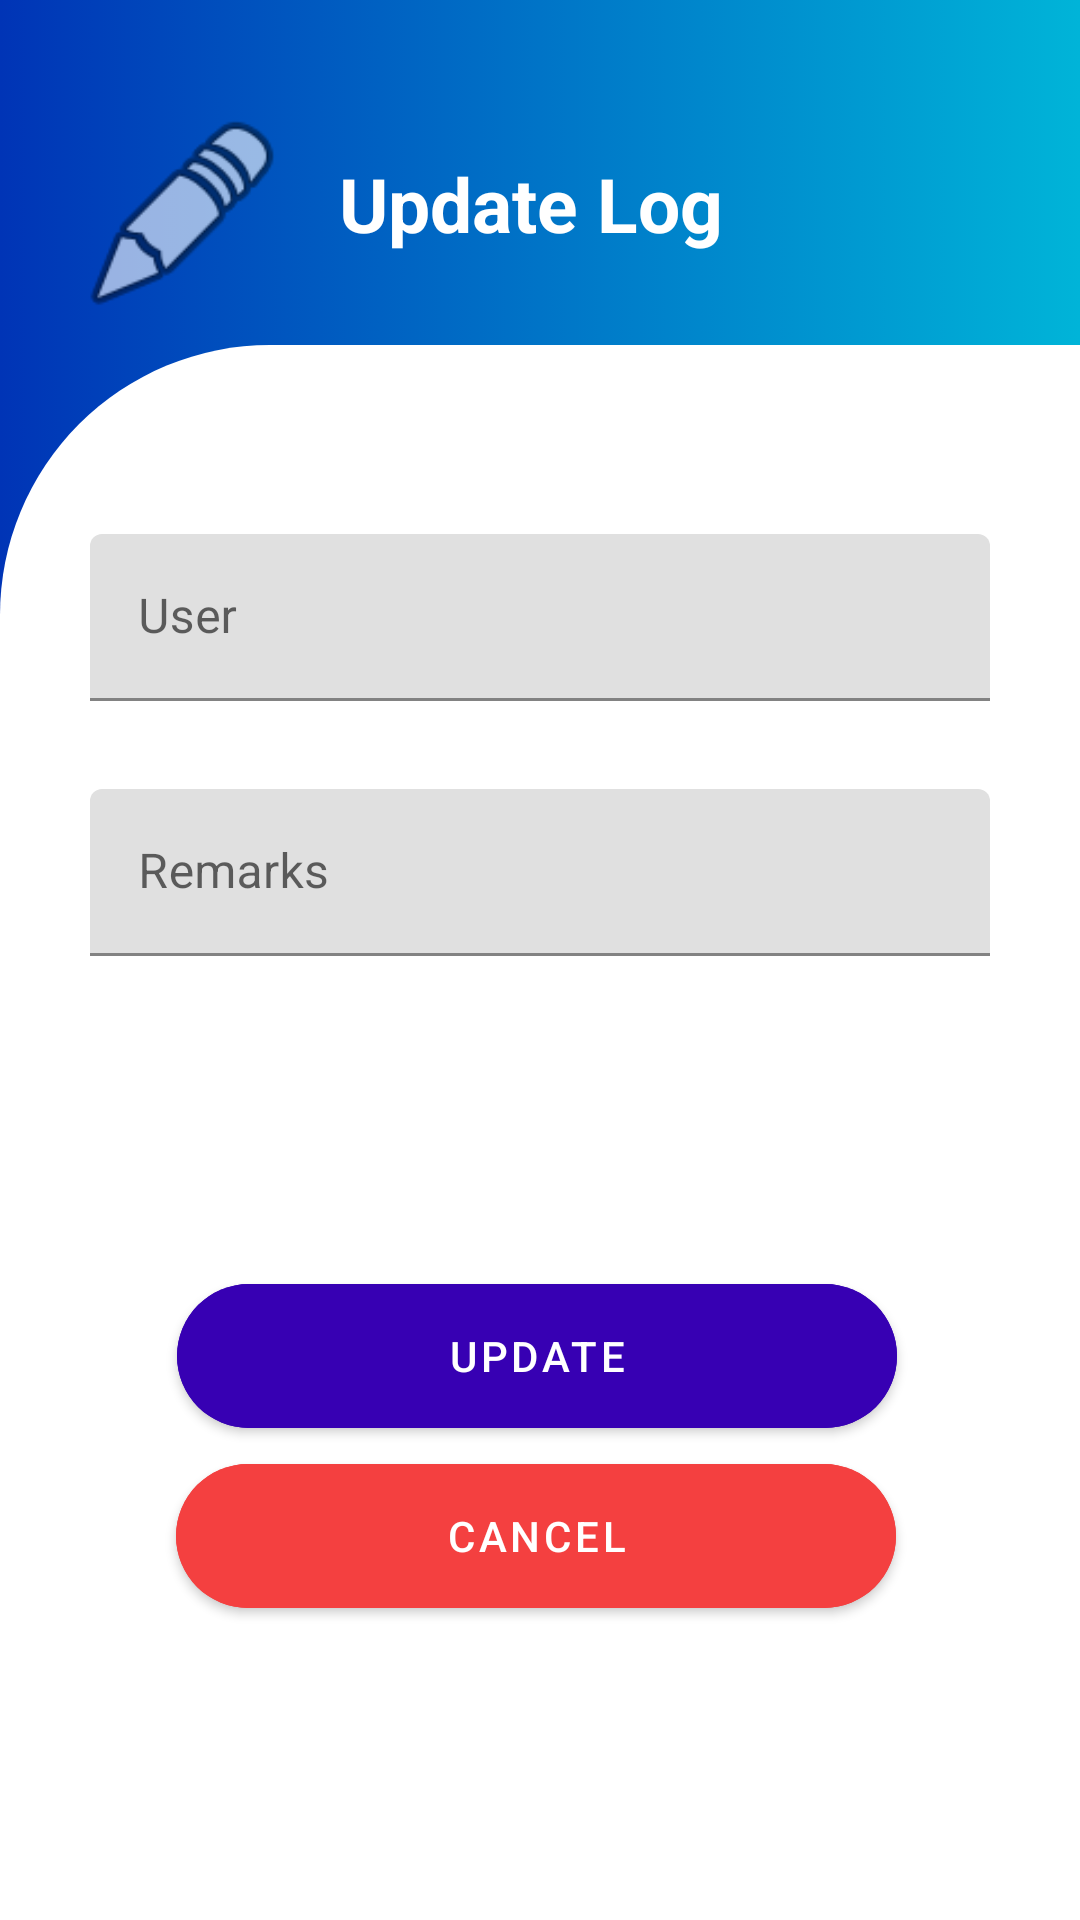

Screen size 1080px×1920px. Icon name, then its box in pixels as (x1, y1, x2, y2):
edit: (75, 105, 274, 324)
